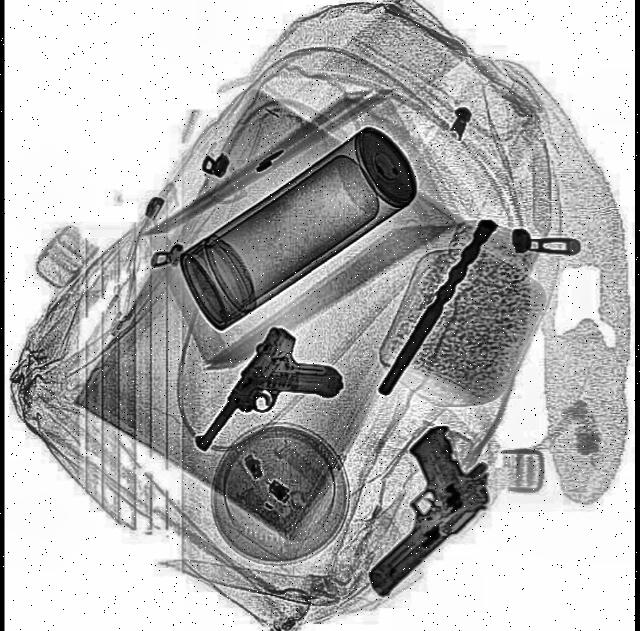Gun: (328, 413, 503, 600), (191, 313, 352, 500)
